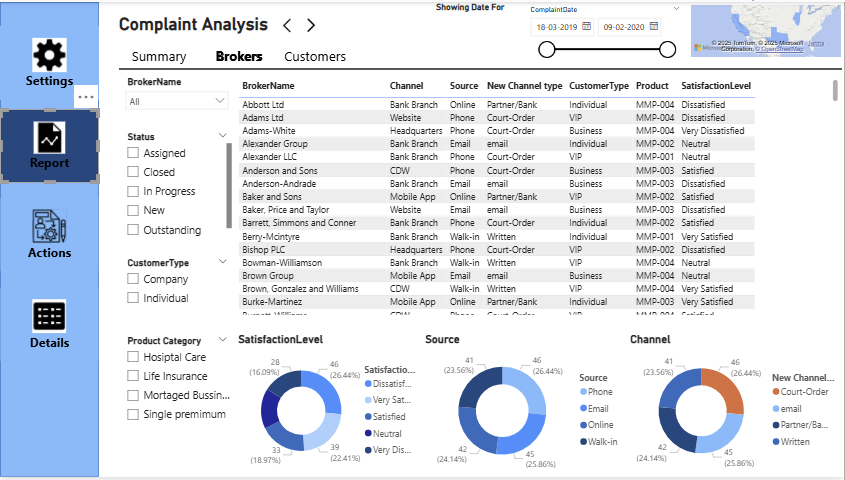

The dashboard page shown, as its layout file describes it:
{"tool":"powerbi","page":{"name":"Reports","canvas":[1280,720],"ordinal":0},"visuals":[{"type":"shape","box":[0,0,150.1,720.4],"z":0},{"type":"actionButton","title":"Customers","box":[419.6,62.9,115.5,39.8],"z":0,"group":"g2"},{"type":"shape","title":"Complaint Analysis","box":[180.5,18.2,271.5,34.9],"z":1000},{"type":"shape","title":"Showing Date For ","box":[661.2,0,259.3,16.7],"z":2000},{"type":"actionButton","title":"Brokers","box":[304.1,62.9,115.5,39.8],"z":2000,"group":"g2"},{"type":"actionButton","title":"Customers ","box":[419.6,62.9,115.5,39.8],"z":2000,"group":"g1"},{"type":"actionButton","title":"Summary","box":[182.9,62.9,115.5,39.8],"z":2500,"group":"g2"},{"type":"slicer","fields":{"Values":["Sheet1.ComplaintDate"]},"box":[791.7,0,251.8,94],"z":3000},{"type":"shape","box":[180.5,92.5,1096.5,18.2],"z":4000},{"type":"filledMap","fields":{"Category":["Sheet1.State"]},"box":[1043.4,0,236.6,89.5],"z":19000},{"type":"image","box":[451.4,18.6,40,34.3],"z":21000},{"type":"image","box":[418.6,18.6,32.9,34.3],"z":22000},{"type":"group","id":"g1","title":"Active buttons","box":[182.9,62.9,351.4,40],"z":23000},{"type":"group","id":"g2","title":"Inactive buttons","box":[182.9,62.9,351.4,40],"z":24000},{"type":"map","fields":{"Size":["Sheet1.Total Complaints"],"Category":["Sheet1.State"]},"box":[179.9,111.7,480.9,367.3],"z":33000},{"type":"clusteredBarChart","fields":{"Y":["Sheet1.Total Complaints"],"Category":["Sheet1.Product Category"]},"box":[179.9,479.1,480.9,240.5],"z":34000},{"type":"tableEx","title":"Customer Details - Bussiness","fields":{"Values":["Sheet1.BrokerName","Sheet1.Total Complaints","Sheet1.New complaint day","Sheet1.Completion status","Sheet1.SatisfactionLevel"]},"box":[660.8,111.7,615.4,314.3],"z":35000},{"type":"tableEx","title":"Customer Details- Individual","fields":{"Values":["Sheet1.BrokerName","Sheet1.Total Complaints","Sheet1.New complaint day","Sheet1.Completion status","Sheet1.SatisfactionLevel"]},"box":[660.8,439.3,615.4,280.2],"z":36000},{"type":"actionButton","box":[0,36.4,150.1,112.2],"z":36001},{"type":"actionButton","box":[0,162.3,150.1,112.2],"z":36002},{"type":"actionButton","box":[0,297.3,150.1,110.7],"z":36003},{"type":"actionButton","box":[0,433.7,150.1,110.7],"z":36004}]}

Visuals, with their boxes on the page's 1280x720 design canvas (x1, y1, x2, y2). These are canvas units, not pixel positions in the 845x480 screenshot, which may show the page scaled, cropped or inside an application window:
shape: locate(0, 0, 150, 720)
"Customers" actionButton: locate(420, 63, 535, 103)
"Complaint Analysis" shape: locate(180, 18, 452, 53)
"Showing Date For " shape: locate(661, 0, 920, 17)
"Brokers" actionButton: locate(304, 63, 420, 103)
"Customers " actionButton: locate(420, 63, 535, 103)
"Summary" actionButton: locate(183, 63, 298, 103)
slicer - Sheet1.ComplaintDate: locate(792, 0, 1044, 94)
shape: locate(180, 92, 1277, 111)
filledMap - Sheet1.State: locate(1043, 0, 1280, 90)
image: locate(451, 19, 491, 53)
image: locate(419, 19, 452, 53)
"Active buttons" group: locate(183, 63, 534, 103)
"Inactive buttons" group: locate(183, 63, 534, 103)
map - Sheet1.Total Complaints x Sheet1.State: locate(180, 112, 661, 479)
clusteredBarChart - Sheet1.Total Complaints x Sheet1.Product Category: locate(180, 479, 661, 720)
"Customer Details - Bussiness" tableEx: locate(661, 112, 1276, 426)
"Customer Details- Individual" tableEx: locate(661, 439, 1276, 720)
actionButton: locate(0, 36, 150, 149)
actionButton: locate(0, 162, 150, 274)
actionButton: locate(0, 297, 150, 408)
actionButton: locate(0, 434, 150, 544)
